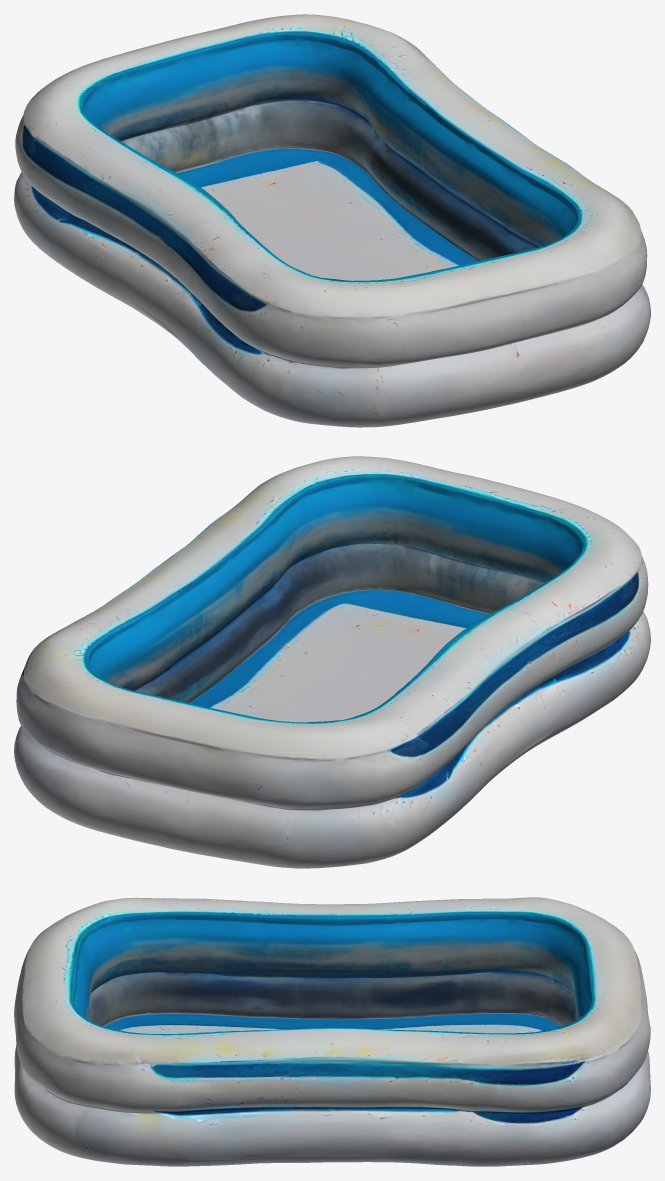
Rendered from BAZIN GONFLABIL COPII 262Х175Х56СМ «CADA».glb.
The picture shows the model from 3 angles, top to bottom: view 1: azimuth 30°, elevation 25°; view 2: azimuth 150°, elevation 25°; view 3: azimuth 270°, elevation 25°; orthographic projection. The views are drawn at different scales.
Visible parts, largest first — view 1: tripo_node_a59cea9d-07ef-4463-9364-fadfa18dca32; view 2: tripo_node_a59cea9d-07ef-4463-9364-fadfa18dca32; view 3: tripo_node_a59cea9d-07ef-4463-9364-fadfa18dca32.
Boxes of the visible parts, x1,y1,x2,y2 form: tripo_node_a59cea9d-07ef-4463-9364-fadfa18dca32: (14,14,650,427); tripo_node_a59cea9d-07ef-4463-9364-fadfa18dca32: (14,456,650,868); tripo_node_a59cea9d-07ef-4463-9364-fadfa18dca32: (14,897,650,1166).
Bounding box in the file's own units: 0.6506 × 0.2278 × 1.
1 material, 1 textured.
